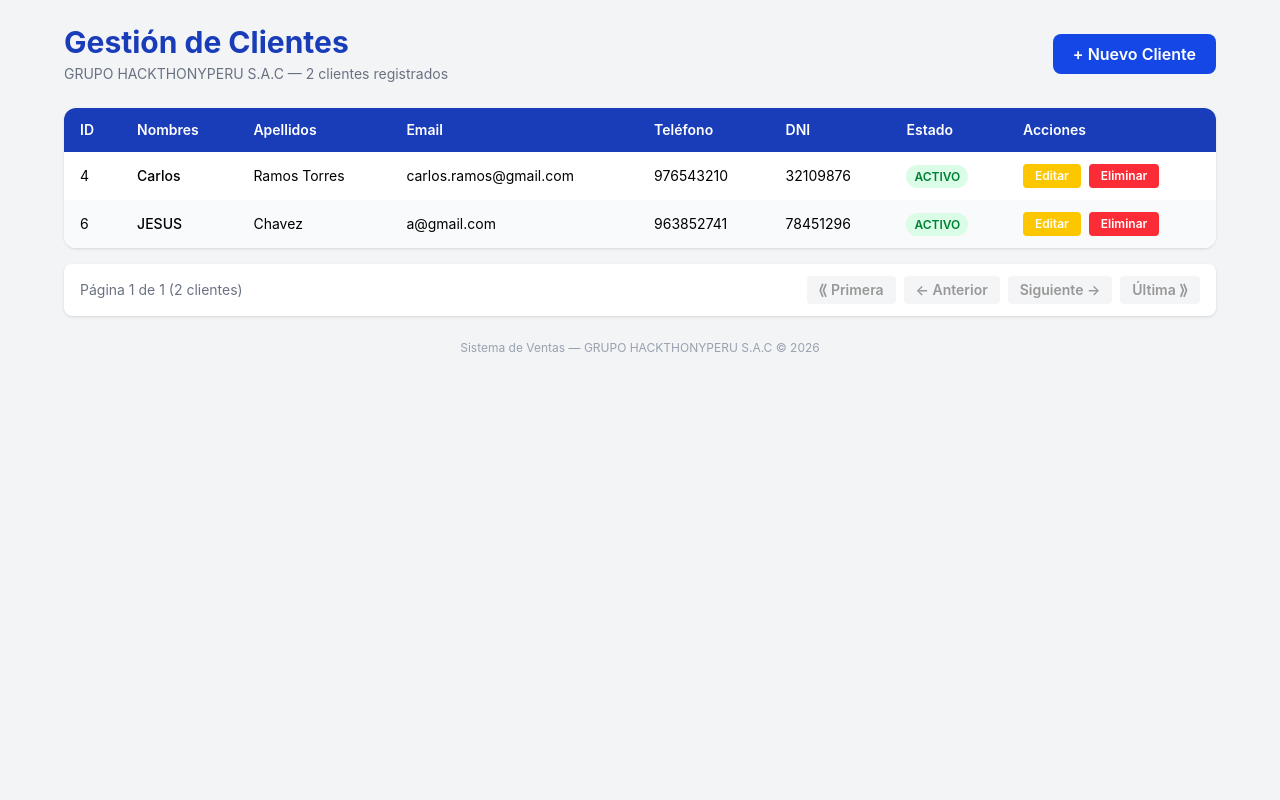
Test case: Componente Clientes - Pruebas Unitarias › Debe permitir editar un cliente existente con éxito
Check: the text "Carlos" is shown, box [121,152,237,200]
Click the button "Editar" in the row of "Ramos Torres" at (1052, 176), box [1023,164,1081,188]
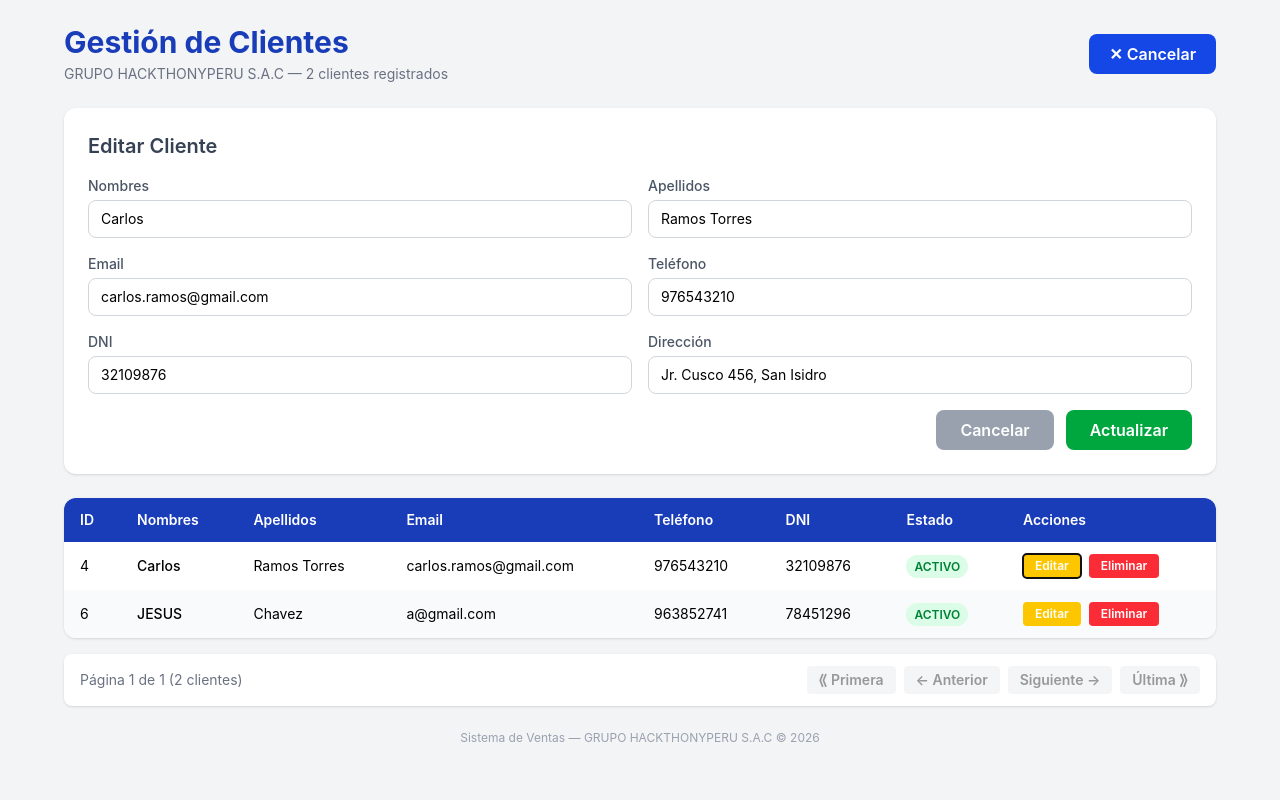
Check: the heading "Editar Cliente" is shown, box [88,134,217,158]
// Limpiamos y escribimos otro nombre
Replace the text in the 1st field named "nombres" with "Carlos Manuel" at (360, 219), box [88,200,632,238]
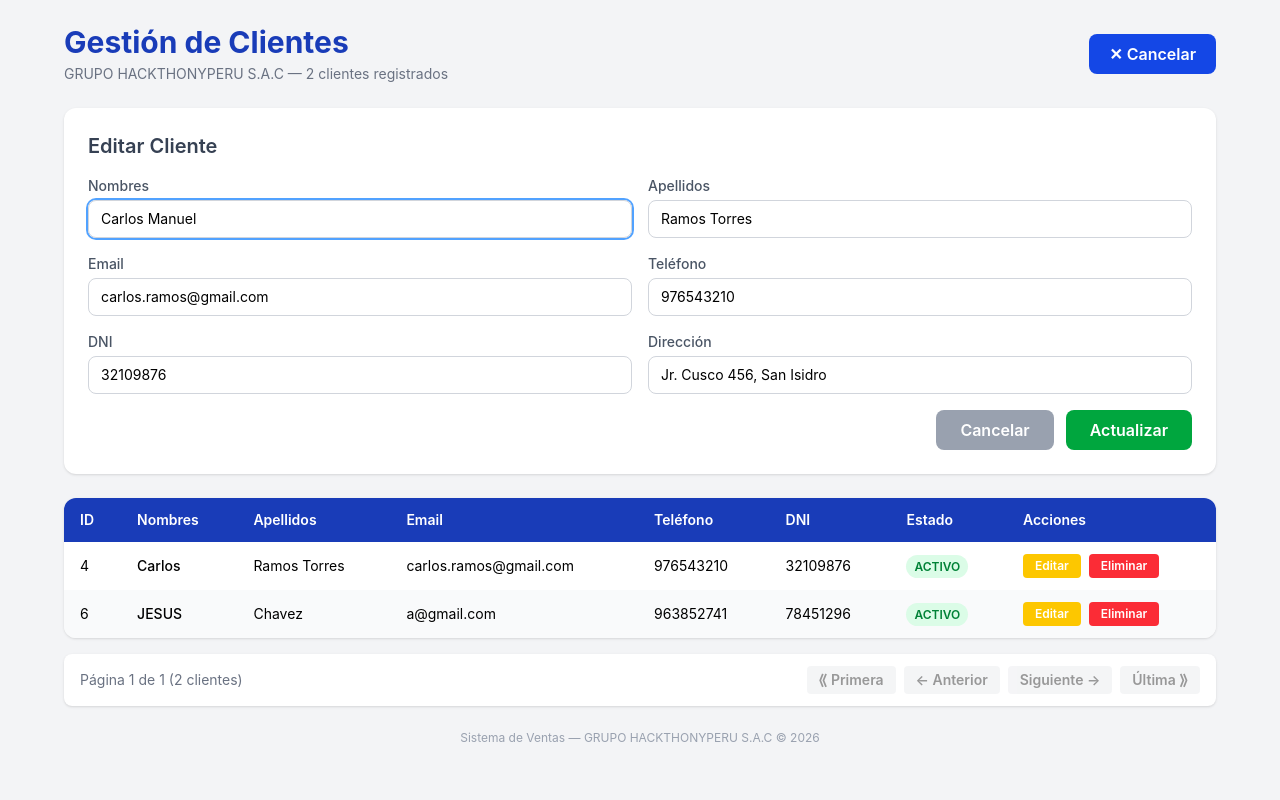
Click the button "Actualizar" at (1129, 430), box [1066,410,1192,450]
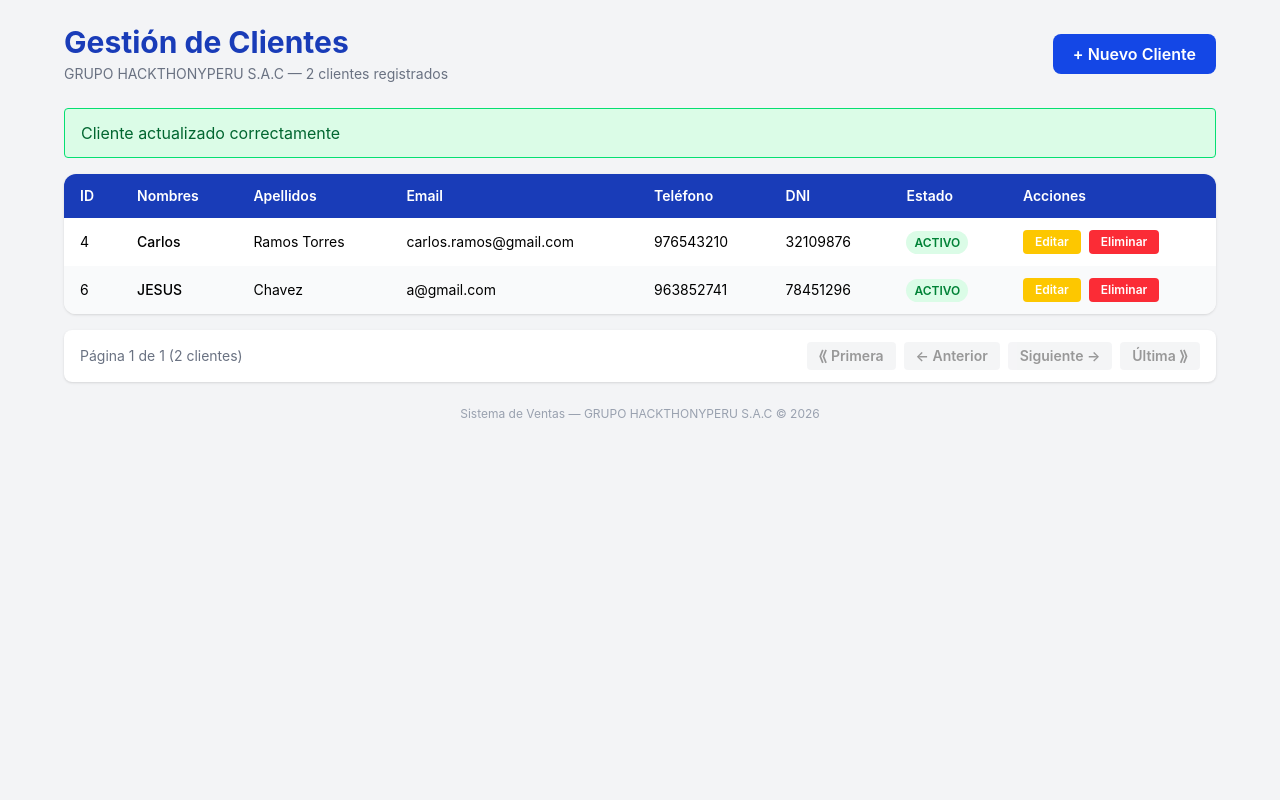
Check: the text "Cliente actualizado correctamente" is shown, box [64,108,1216,158]
